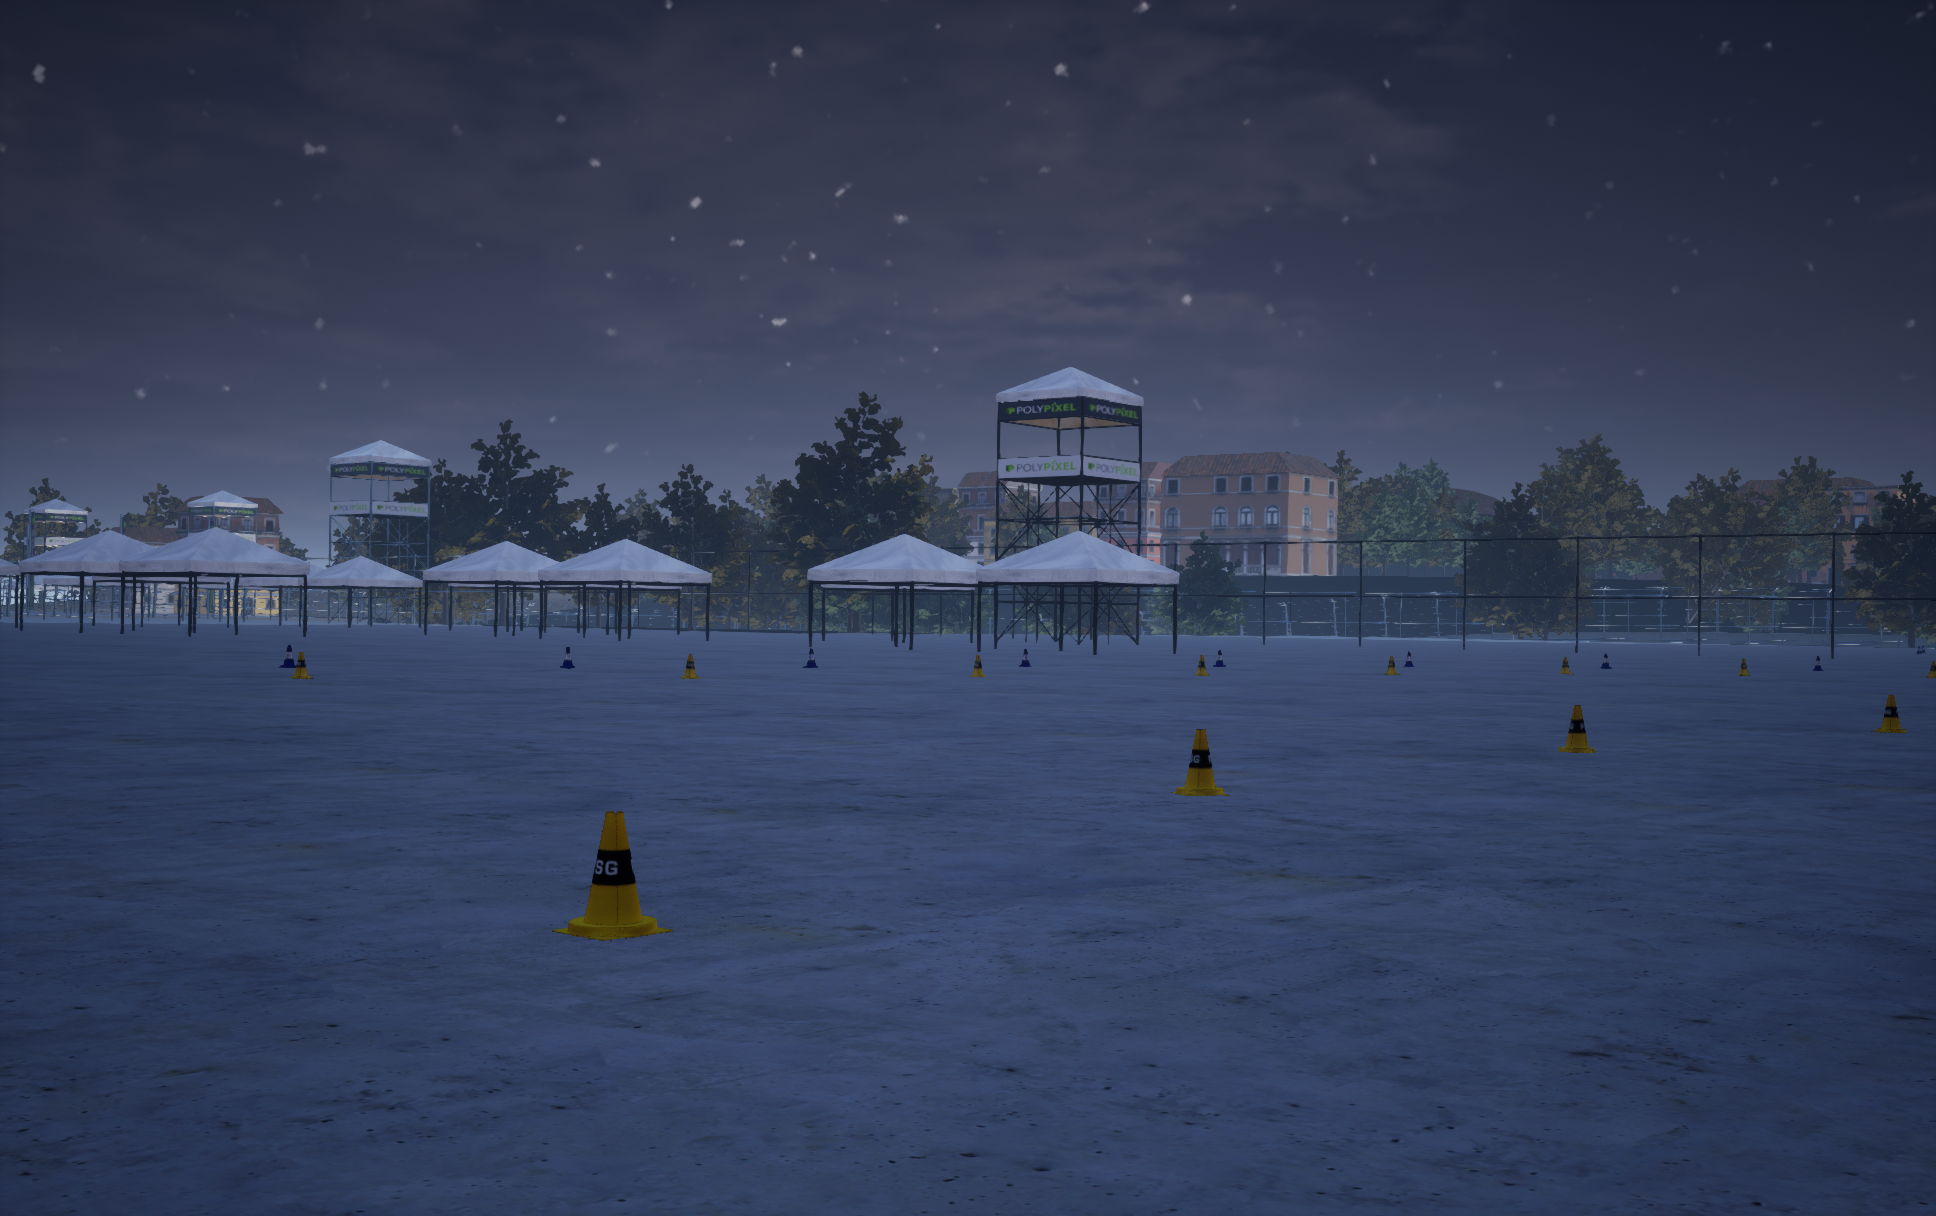blue: (552, 811, 672, 940), (1171, 728, 1230, 794), (1558, 705, 1596, 752), (1872, 695, 1907, 733), (291, 651, 312, 678), (681, 654, 699, 678), (969, 656, 985, 677), (1194, 656, 1209, 675), (1384, 656, 1399, 674)
yellow: (277, 644, 296, 667), (560, 647, 574, 668), (803, 649, 817, 667), (1018, 649, 1031, 665)
